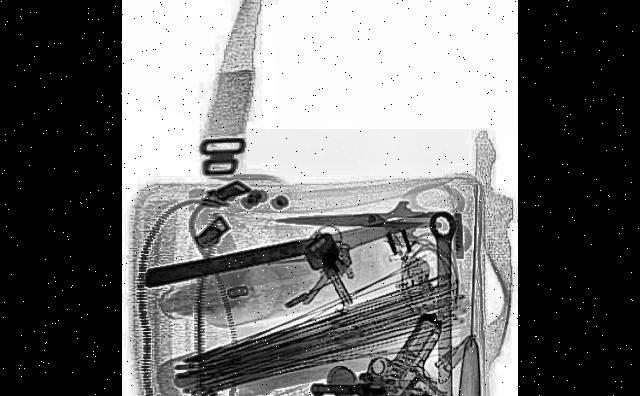Gun: (310, 308, 439, 396)
Knife: (142, 204, 434, 298), (452, 181, 489, 396)
Scissors: (273, 183, 471, 257)
Wrench: (425, 212, 461, 396)
